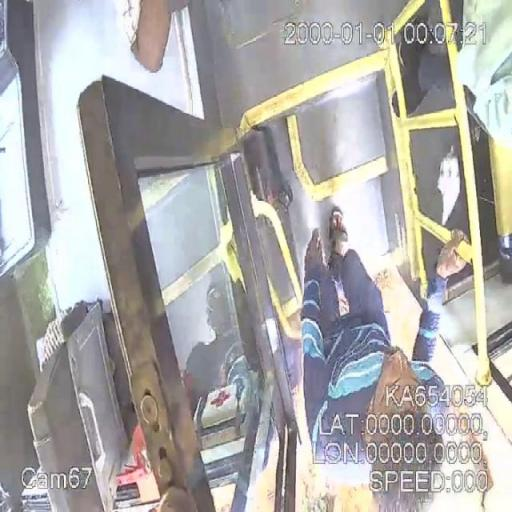persona: (300, 216, 474, 510)
